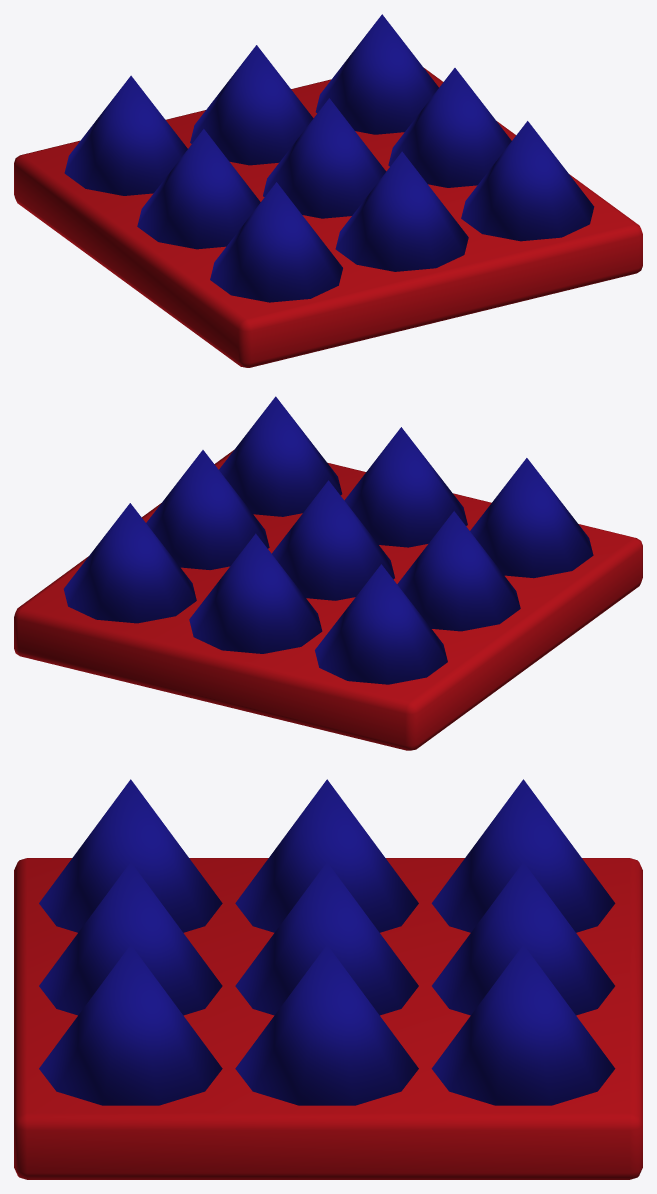
Rendered from Spike.fbx.
The picture shows the model from 3 angles, top to bottom: view 1: azimuth 30°, elevation 25°; view 2: azimuth 150°, elevation 25°; view 3: azimuth 270°, elevation 25°; orthographic projection. The views are drawn at different scales.
Visible parts, largest first — view 1: Cube; view 2: Cube; view 3: Cube.
Part boxes in pixels (x1,y1,x2,y2): Cube: [14, 14, 642, 367]; Cube: [14, 396, 642, 750]; Cube: [14, 779, 642, 1179].
Size of the model in its own units: 200 by 66.86 by 200.
